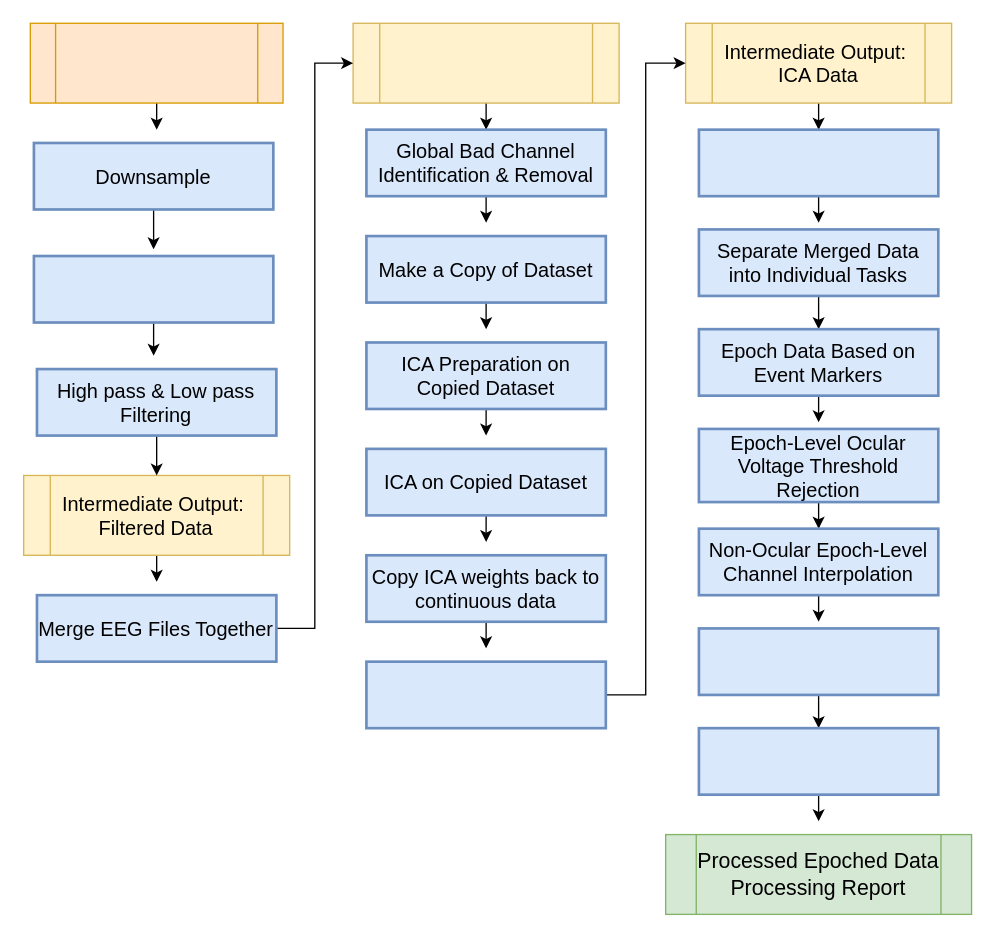
This 995x938 diagram has some shape labels left out. The box of each missing label's shape, as (x1, y1, x2, y2) in pixels:
Delete Outer Layer of Channels: (32, 254, 274, 323)
Global Channel Interpolation: (697, 626, 939, 696)
Identify Artifacted Independent Components: (364, 660, 606, 729)
Intermediate Output: Merged Data: (352, 22, 619, 103)
Raw EEG Data: Event-Related or Resting: (29, 22, 283, 103)
Re-referencing: (697, 726, 939, 795)
Remove Artifacted Independent Components: (697, 128, 939, 197)
